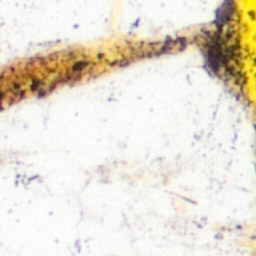cement_matrix: (204, 2, 242, 81), (28, 78, 45, 92), (69, 61, 84, 75), (11, 83, 20, 92), (0, 88, 4, 104)
cracks: (0, 0, 255, 123), (203, 1, 243, 82), (27, 77, 46, 93), (68, 60, 85, 76), (10, 82, 21, 93)
gravel_crushed_stones: (0, 46, 255, 255), (0, 0, 222, 67)
